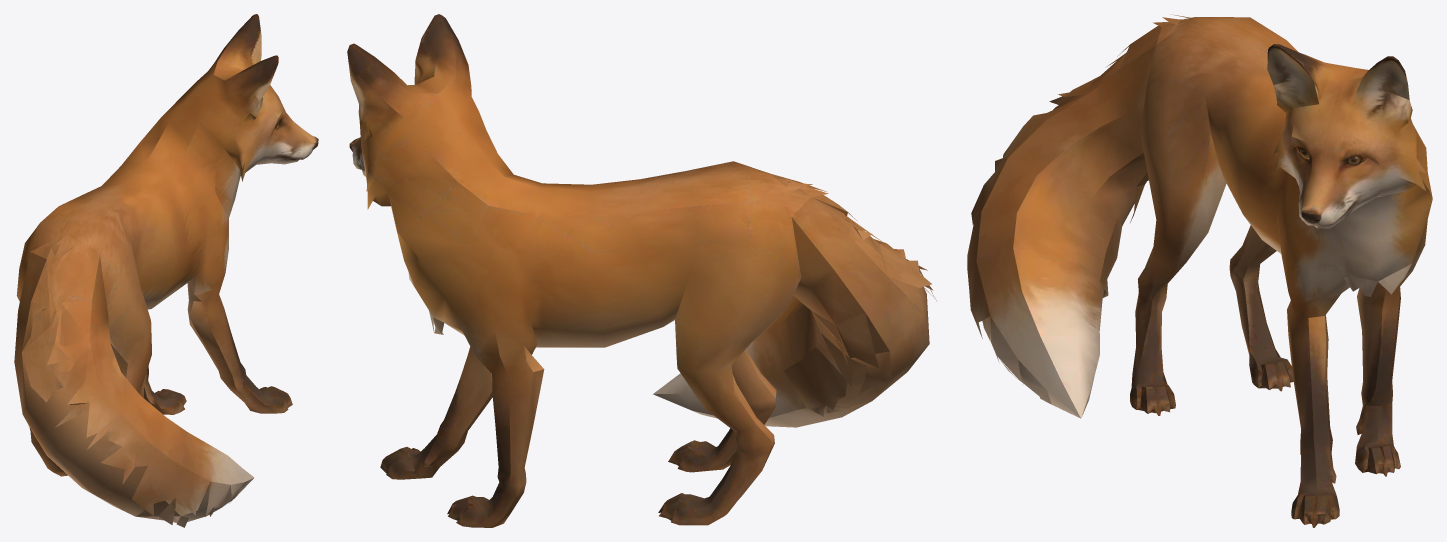
File: fox.glb
The picture shows the model from 3 angles, left to right: view 1: azimuth 30°, elevation 25°; view 2: azimuth 150°, elevation 25°; view 3: azimuth 270°, elevation 25°; orthographic projection. The views are drawn at different scales.
Parts seen in each view (by area): view 1: tripo_node_1dec2486-10cb-4e04-bec1-4e19278eb9c5; view 2: tripo_node_1dec2486-10cb-4e04-bec1-4e19278eb9c5; view 3: tripo_node_1dec2486-10cb-4e04-bec1-4e19278eb9c5.
Boxes of the visible parts, left/top/right/bottom form: tripo_node_1dec2486-10cb-4e04-bec1-4e19278eb9c5: left=14, top=14, right=318, bottom=527; tripo_node_1dec2486-10cb-4e04-bec1-4e19278eb9c5: left=347, top=14, right=936, bottom=527; tripo_node_1dec2486-10cb-4e04-bec1-4e19278eb9c5: left=967, top=14, right=1432, bottom=527.
Bounding box in the file's own units: 1 × 0.9316 × 0.8359.
Materials: 1 (1 with a texture image).
